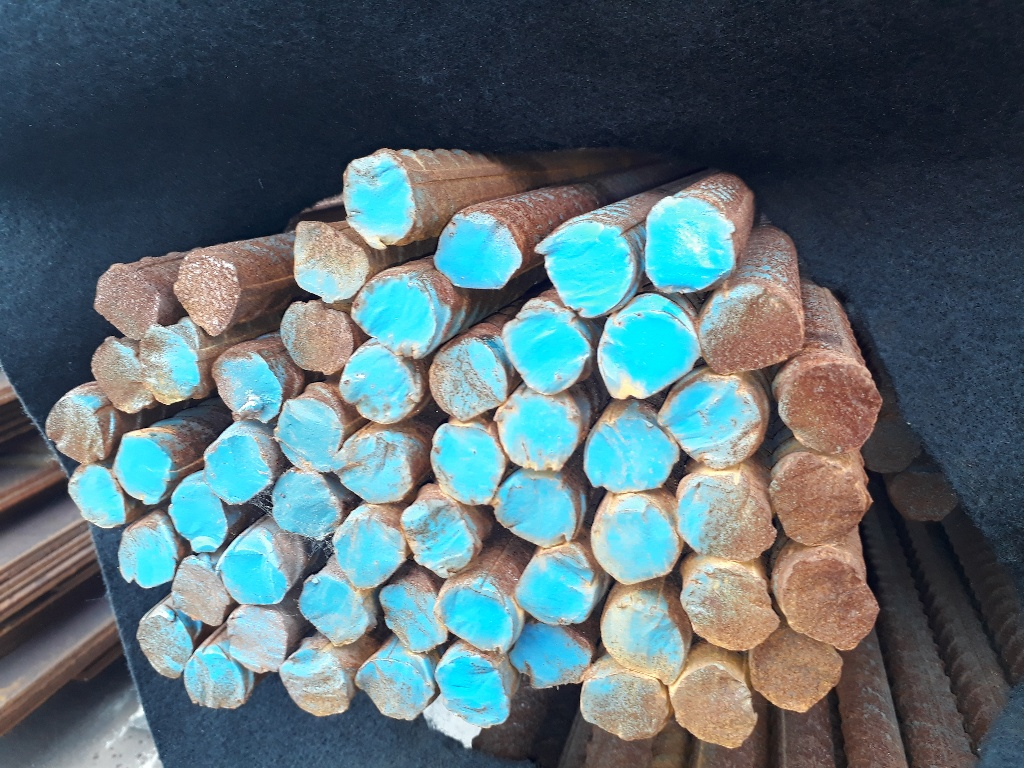dipstick: (781, 360, 879, 451), (700, 285, 801, 373), (645, 196, 732, 292), (787, 560, 880, 649), (675, 478, 778, 557), (540, 226, 635, 311), (780, 454, 872, 541), (597, 312, 698, 391), (686, 566, 779, 649), (673, 377, 760, 465), (505, 311, 595, 391), (432, 213, 523, 291), (593, 499, 678, 582), (587, 417, 675, 492), (675, 666, 753, 748), (345, 155, 416, 245), (751, 641, 843, 710), (357, 276, 435, 357), (496, 390, 579, 465), (603, 599, 682, 673), (497, 476, 581, 545), (345, 348, 421, 423), (518, 548, 593, 623), (435, 657, 512, 729), (582, 675, 668, 738), (440, 583, 515, 653), (356, 660, 436, 725), (405, 501, 477, 573), (339, 435, 413, 504), (295, 223, 364, 296), (511, 626, 592, 688), (385, 573, 446, 654), (337, 515, 406, 586), (212, 350, 280, 421), (283, 303, 351, 372), (96, 264, 160, 335), (181, 250, 233, 332), (285, 653, 350, 717), (209, 434, 271, 501), (281, 399, 337, 473), (277, 472, 337, 540), (170, 482, 226, 554), (304, 579, 367, 642), (46, 397, 107, 462), (143, 327, 197, 400), (96, 340, 148, 413), (222, 550, 287, 605), (187, 651, 245, 712), (118, 522, 175, 584), (227, 608, 284, 670), (69, 467, 125, 528), (117, 438, 168, 501), (173, 565, 225, 626), (139, 615, 191, 674)
